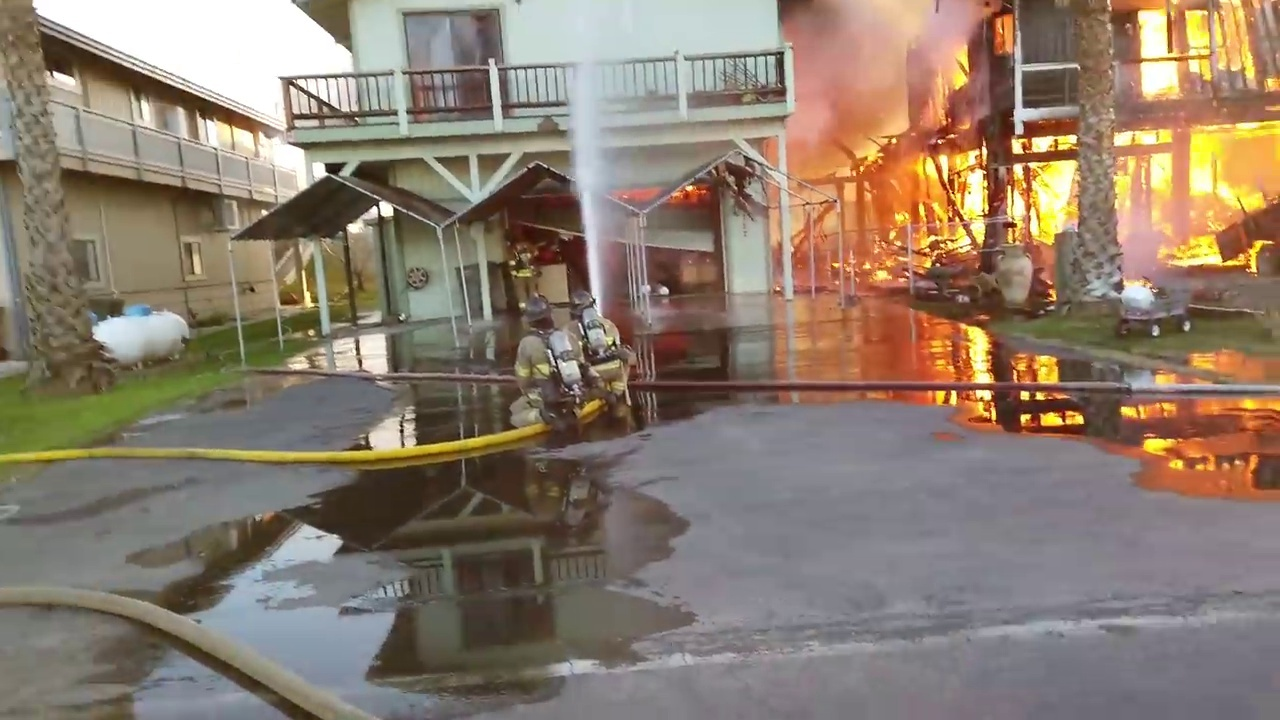fire: (1118, 132, 1280, 275), (826, 155, 982, 279), (1132, 1, 1280, 113), (1012, 138, 1074, 238), (989, 13, 1017, 56), (674, 183, 718, 208), (615, 185, 665, 204)
smoke: (769, 1, 964, 144)
